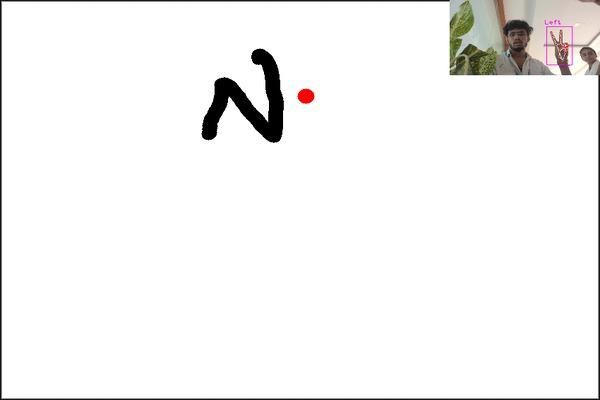N: (196, 43, 291, 147)
